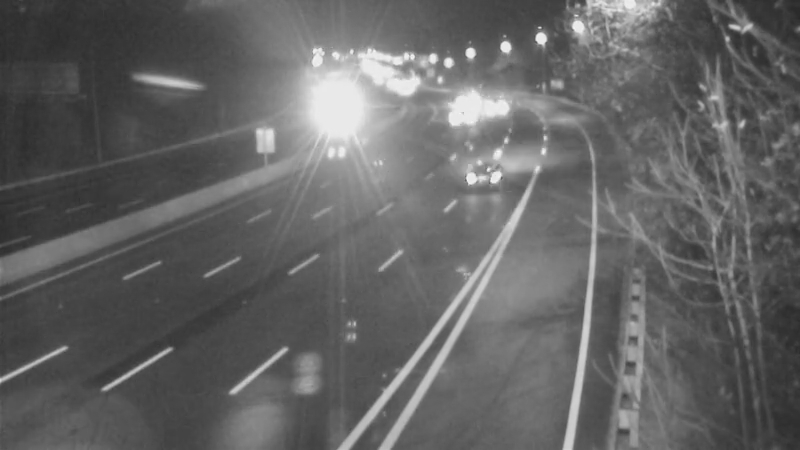vehicle: (448, 134, 528, 214), (434, 71, 484, 121), (467, 84, 517, 134), (437, 94, 487, 144), (300, 97, 350, 147)
